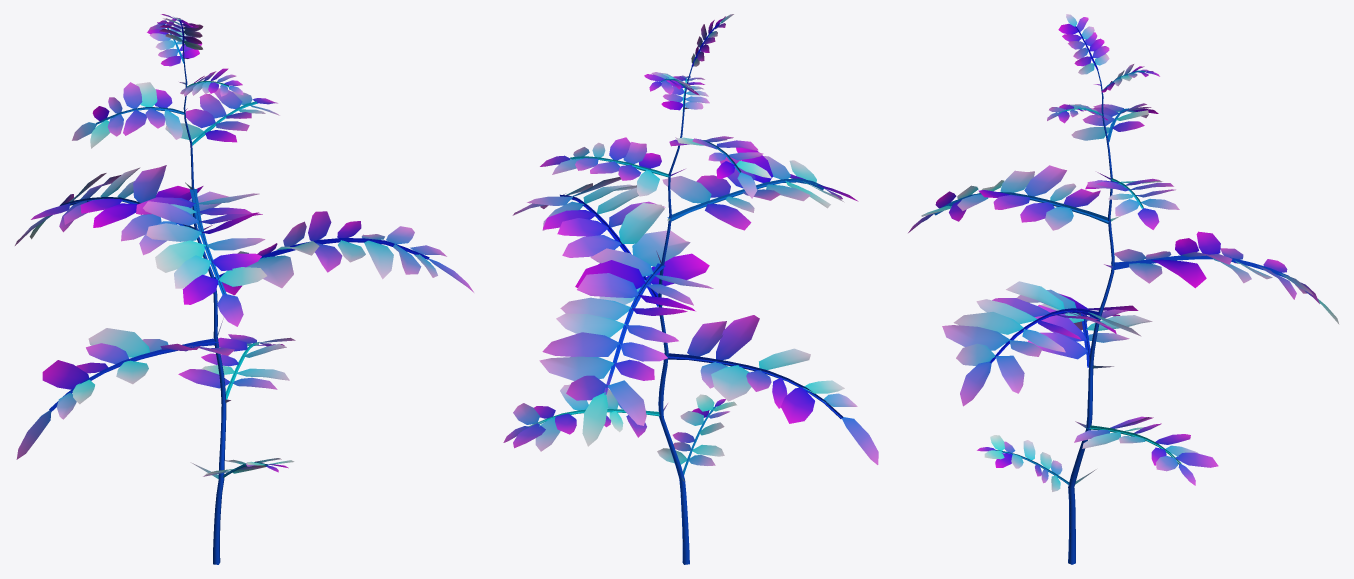
File: Black_Locust_wdvhberja_Mid_wdvhberja_VarE_LOD0.fbx
3 renders of one model, left to right at view 1: azimuth 30°, elevation 25°; view 2: azimuth 150°, elevation 25°; view 3: azimuth 270°, elevation 25°, orthographic. The views are drawn at different scales.
Parts seen in each view (by area): view 1: _9kto_VarE_LOD1; view 2: _9kto_VarE_LOD1; view 3: _9kto_VarE_LOD1.
Part boxes in pixels (bbox=[...]): _9kto_VarE_LOD1: bbox=[15, 14, 473, 564]; _9kto_VarE_LOD1: bbox=[503, 14, 878, 564]; _9kto_VarE_LOD1: bbox=[908, 14, 1339, 564].
Size of the model in its own units: 37.03 by 49.68 by 36.83.
